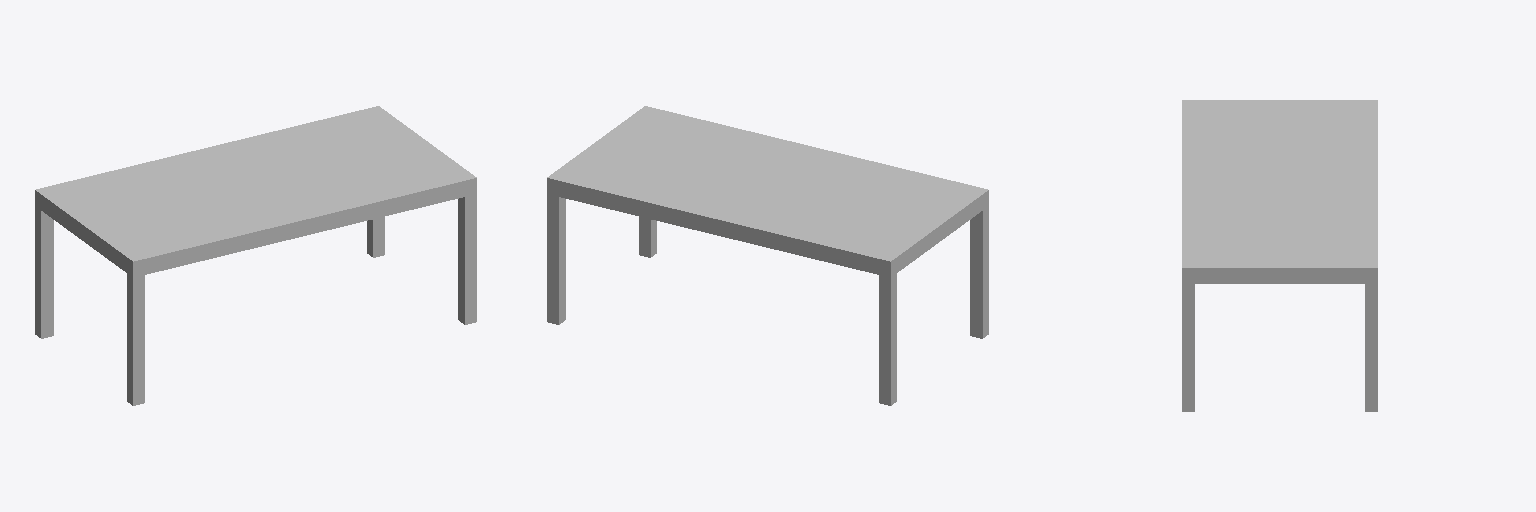
File: desk.obj
3 renders of one model, left to right at view 1: azimuth 30°, elevation 25°; view 2: azimuth 150°, elevation 25°; view 3: azimuth 270°, elevation 25°, orthographic.
Visible parts, largest first — view 1: pCube003; view 2: pCube003; view 3: pCube003.
Part boxes in pixels (left/top/right/bottom): pCube003: left=35, top=106, right=476, bottom=405; pCube003: left=547, top=106, right=988, bottom=405; pCube003: left=1182, top=100, right=1377, bottom=411.
Size of the model in its own units: 47.93 by 19.23 by 23.75.